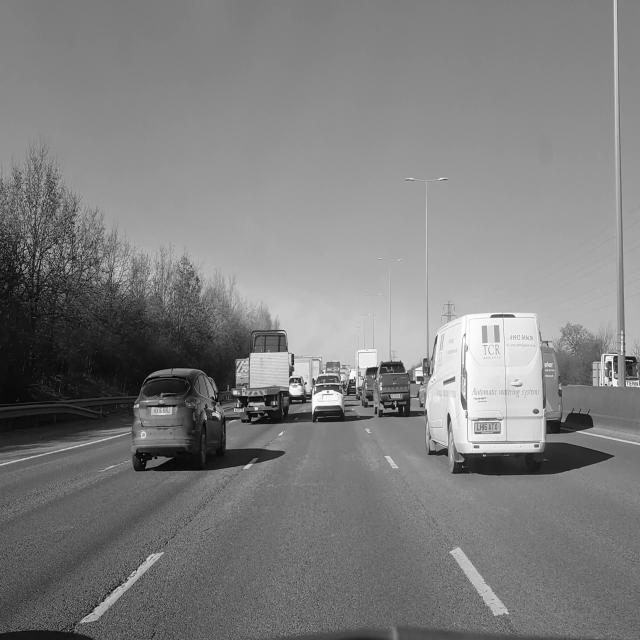car: (425, 313, 546, 472), (132, 369, 225, 471), (373, 361, 410, 417), (542, 342, 562, 433), (312, 375, 344, 422), (361, 367, 377, 407), (289, 376, 306, 402)
